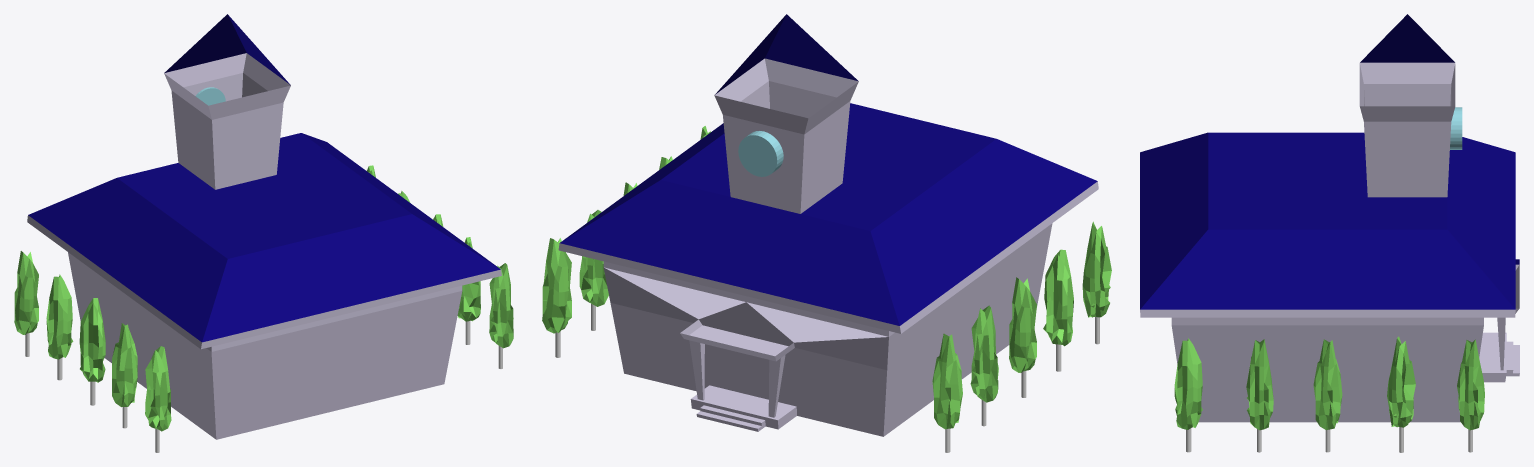
File: college.glb
3 views of the same model, side by side, from view 1: azimuth 30°, elevation 25°; view 2: azimuth 150°, elevation 25°; view 3: azimuth 270°, elevation 25° (orthographic). The views are drawn at different scales.
Visible parts, largest first — view 1: Cube, treerow1, treerow2; view 2: Cube, treerow1, treerow2; view 3: Cube, treerow2.
Part boxes in pixels (left/top/right/bottom): Cube: left=27, top=14, right=501, bottom=439; treerow1: left=14, top=251, right=171, bottom=452; treerow2: left=367, top=165, right=513, bottom=368; Cube: left=558, top=14, right=1098, bottom=436; treerow1: left=932, top=221, right=1111, bottom=452; treerow2: left=542, top=126, right=710, bottom=357; Cube: left=1140, top=14, right=1519, bottom=422; treerow2: left=1174, top=336, right=1484, bottom=452.
Size of the model in its own units: 6.45 by 5.41 by 5.35.
